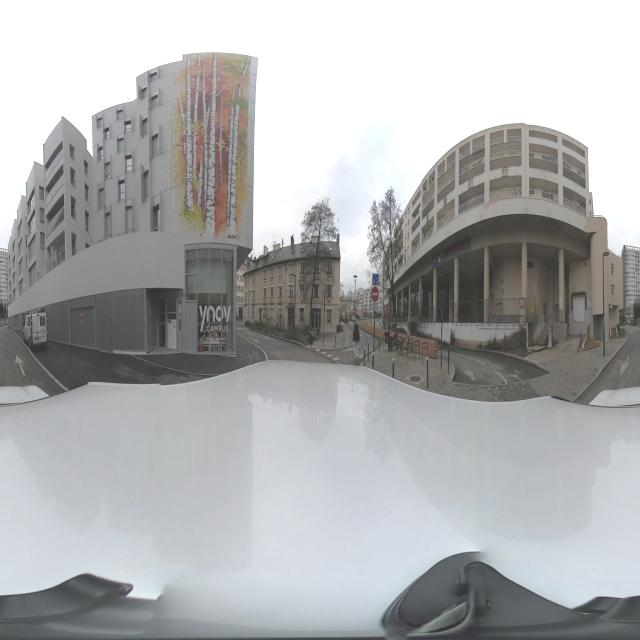car: (27, 308, 48, 349), (387, 323, 409, 348)
